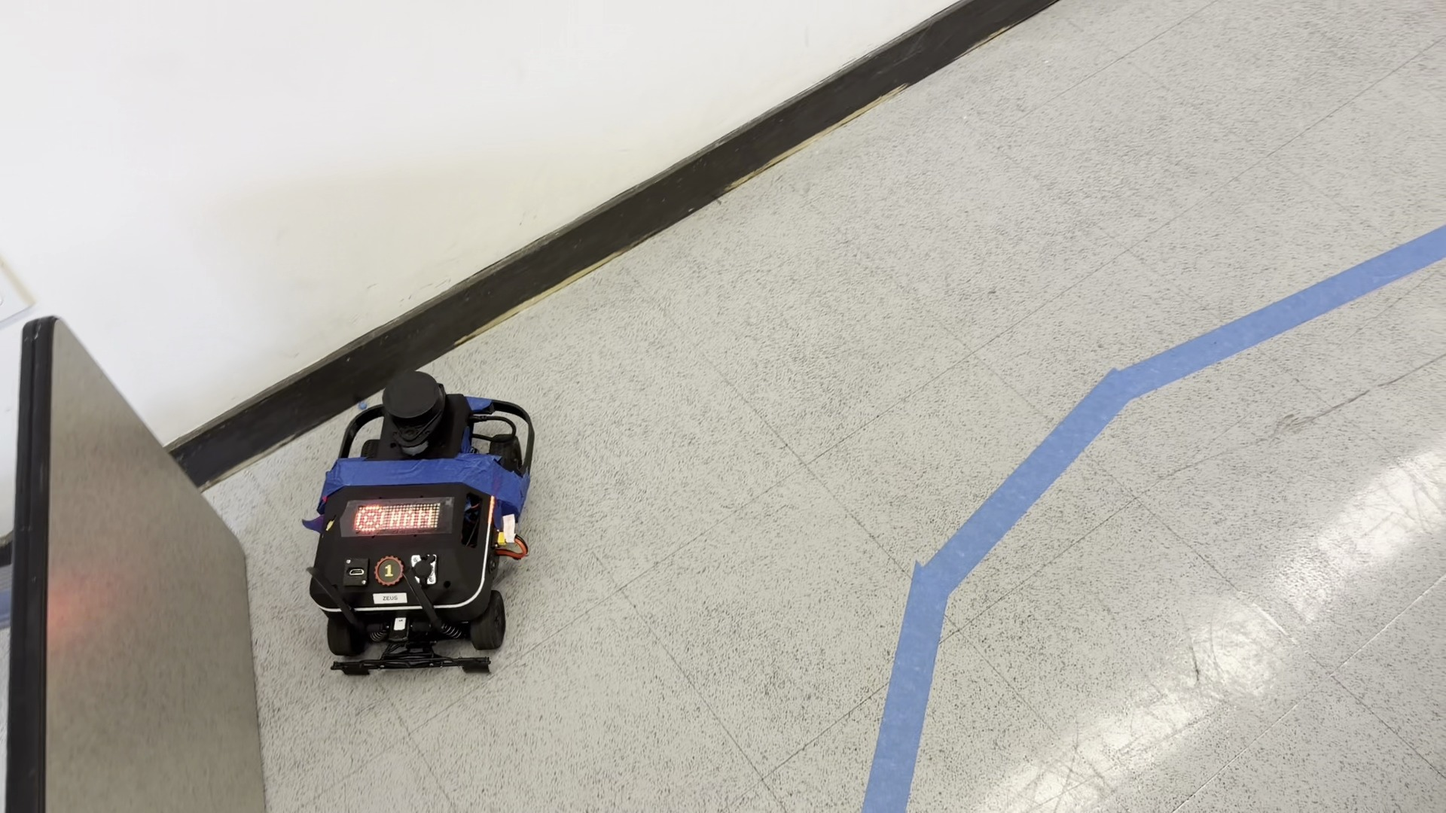racecar: (305, 386, 534, 673)
